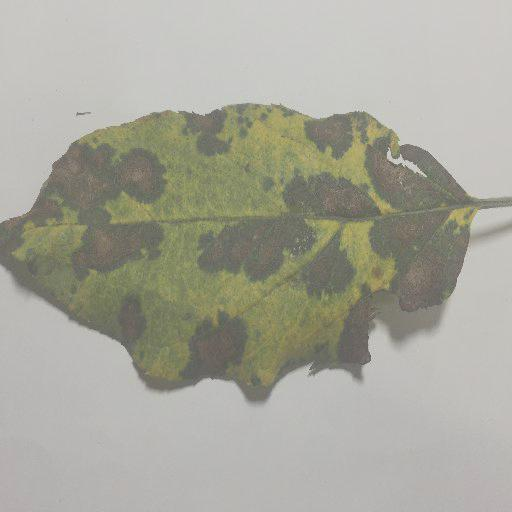Brown_Spot: (365, 215, 468, 305), (50, 149, 165, 212), (193, 217, 301, 281), (370, 147, 475, 203), (71, 221, 158, 272), (287, 176, 368, 216), (181, 107, 237, 164), (189, 324, 244, 380), (296, 114, 362, 155), (302, 249, 365, 285), (341, 301, 377, 361), (123, 303, 143, 347), (2, 222, 22, 262), (35, 199, 61, 222)
